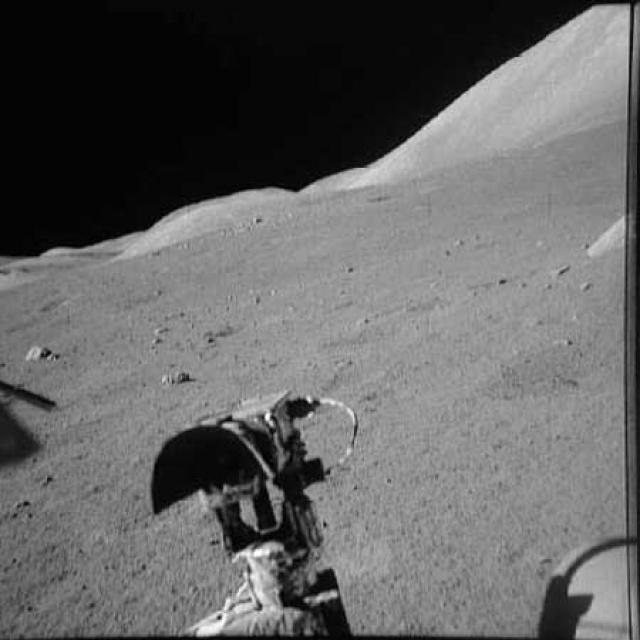artifact: (140, 390, 372, 638), (529, 530, 640, 640)
rock: (579, 201, 638, 263), (18, 335, 61, 366), (153, 366, 197, 391)
